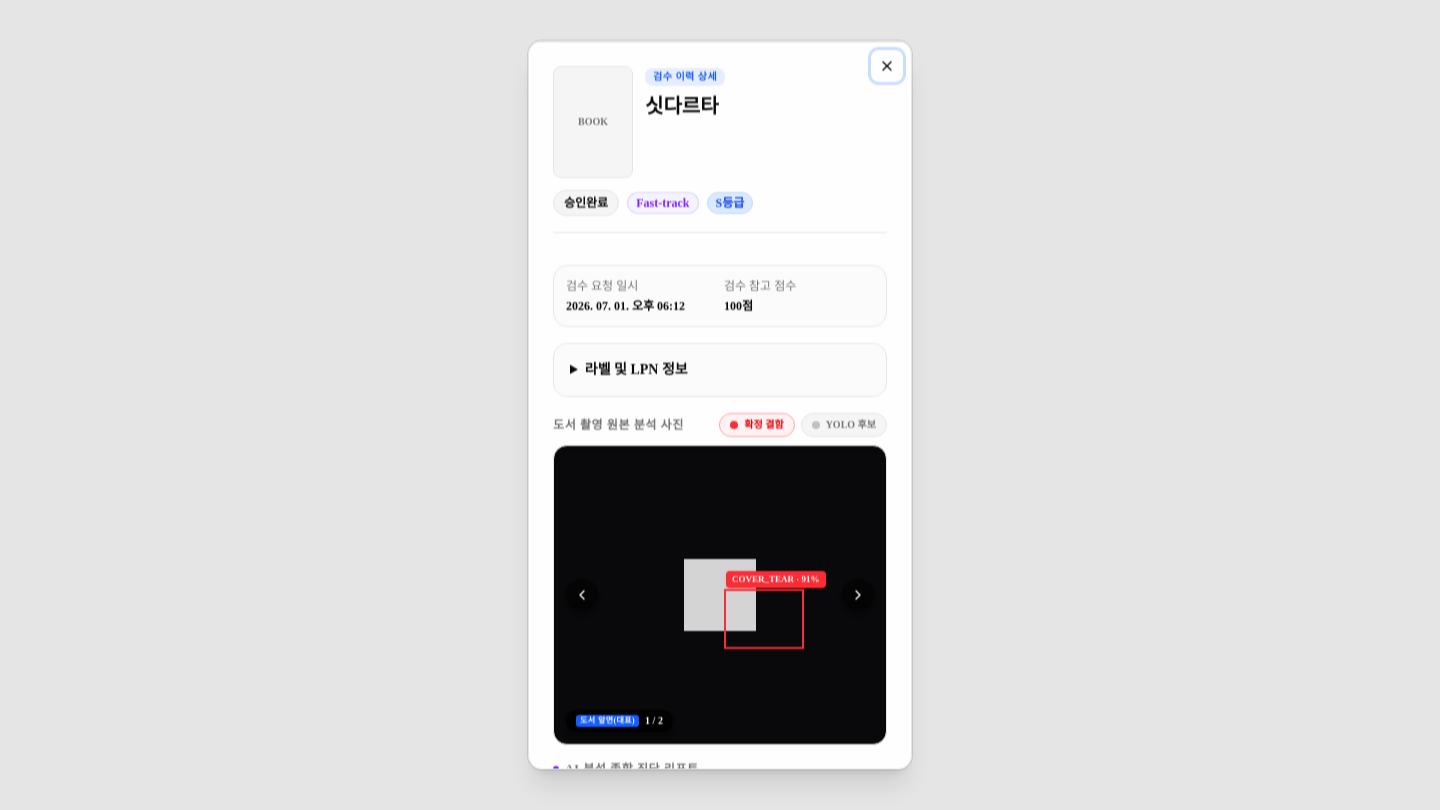
InspectionHistoryDetailDialog › imageIndex가 일치하는 결함만 현재 사진 위에 오버레이 배지로 표시된다
This screenshot has width=1440, height=810.
Expected: the text "COVER_TEAR · 91%" is shown, [726,571,826,588]
Click the button titled "다음 사진" at (858, 595), box [842,579,874,611]
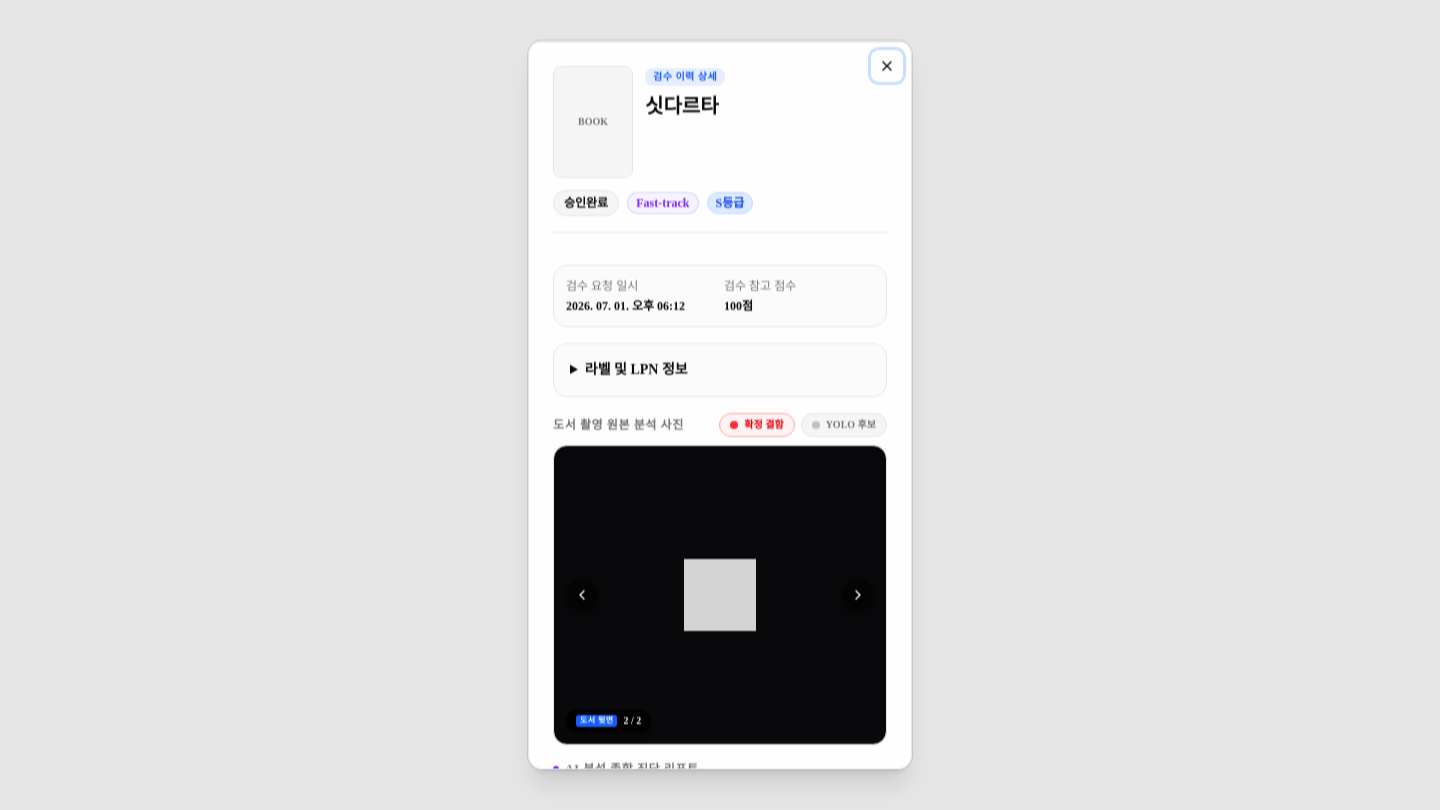
Now the text "COVER_TEAR" is gone
